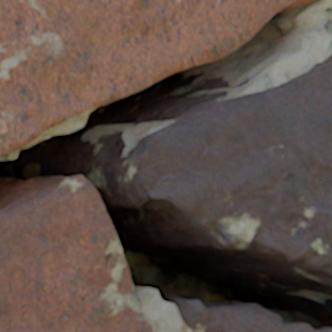brick: (0, 0, 316, 155), (0, 176, 152, 331)
broken_brick: (129, 53, 331, 268), (177, 299, 331, 331)
crack: (0, 0, 331, 330)
